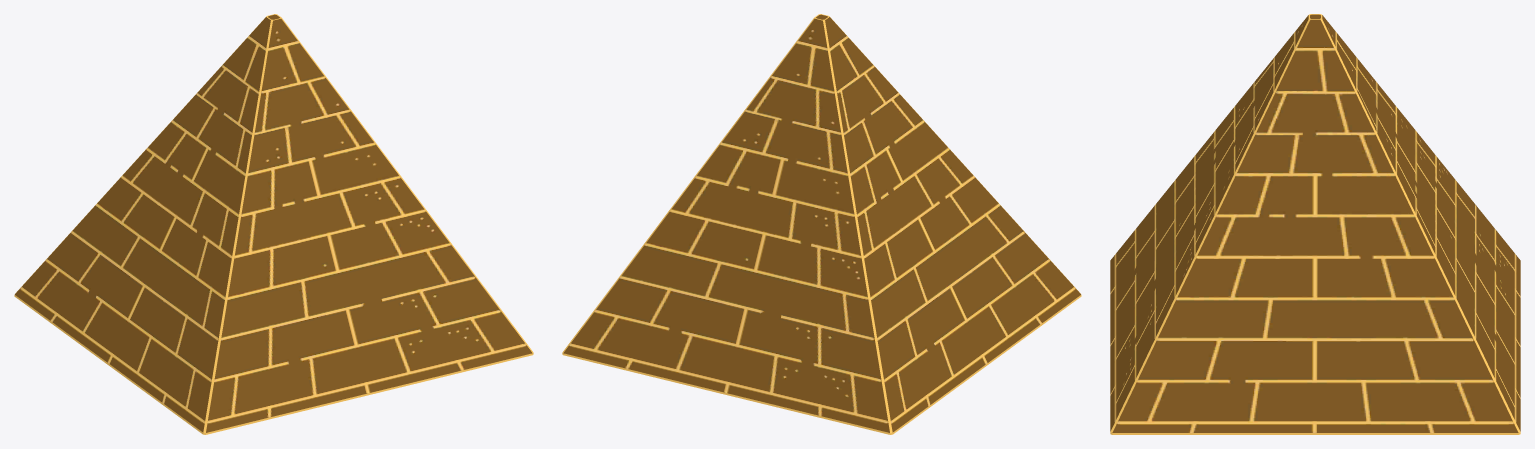
Rendered from SandPyramid.glb.
3 renders of one model, left to right at view 1: azimuth 30°, elevation 25°; view 2: azimuth 150°, elevation 25°; view 3: azimuth 270°, elevation 25°, orthographic. The views are drawn at different scales.
Parts seen in each view (by area): view 1: SandPyramid; view 2: SandPyramid; view 3: SandPyramid.
Boxes of the visible parts, x1,y1,x2,y2 form: SandPyramid: (14,14,533,434); SandPyramid: (562,14,1081,434); SandPyramid: (1110,14,1520,434).
Bounding box in the file's own units: 0.269 × 0.2395 × 0.269.
Materials: 1 (1 with a texture image).
